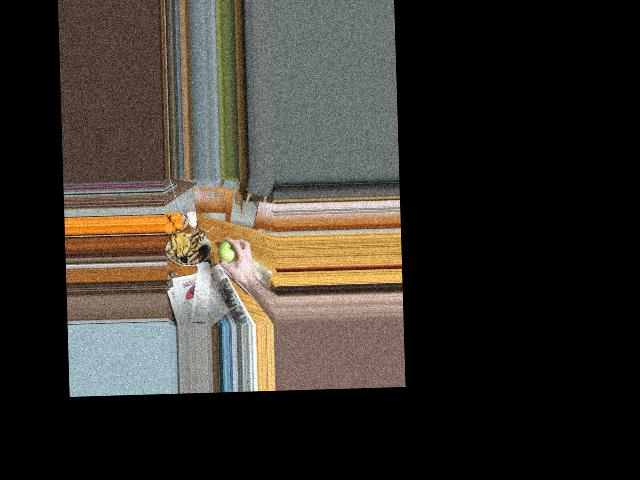apple: (218, 237, 240, 265)
